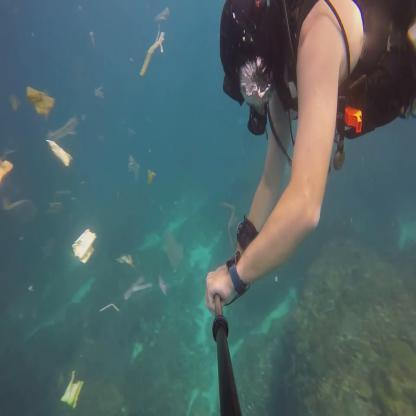Rác: (0, 154, 38, 224), (158, 231, 189, 272), (124, 153, 160, 188), (136, 30, 166, 70), (47, 137, 80, 170), (59, 367, 90, 402), (25, 81, 52, 117), (69, 227, 98, 260), (114, 283, 155, 299), (154, 271, 172, 298), (92, 82, 108, 103), (117, 252, 132, 266)
